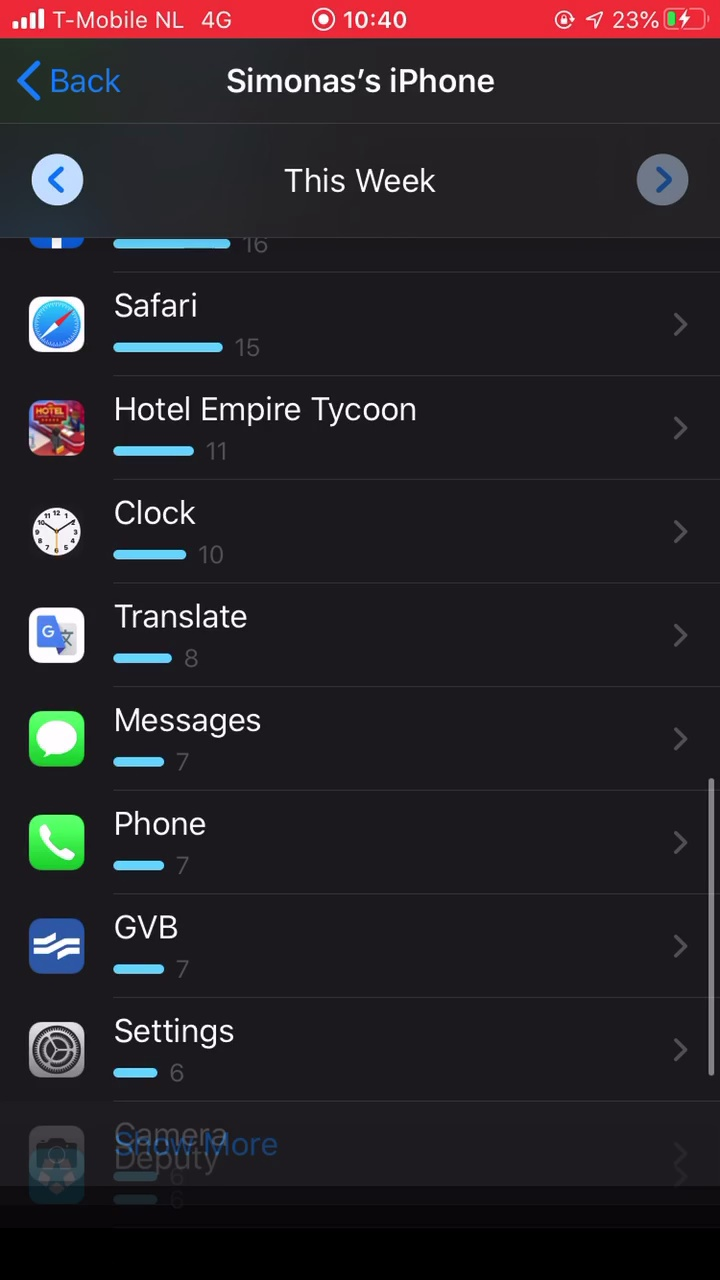pick_app: (4, 497, 412, 575), (11, 388, 423, 461), (15, 700, 328, 780), (11, 282, 318, 361), (9, 599, 326, 675), (12, 805, 270, 878), (14, 907, 232, 991), (14, 1011, 251, 1088)
week: (273, 154, 444, 207)
